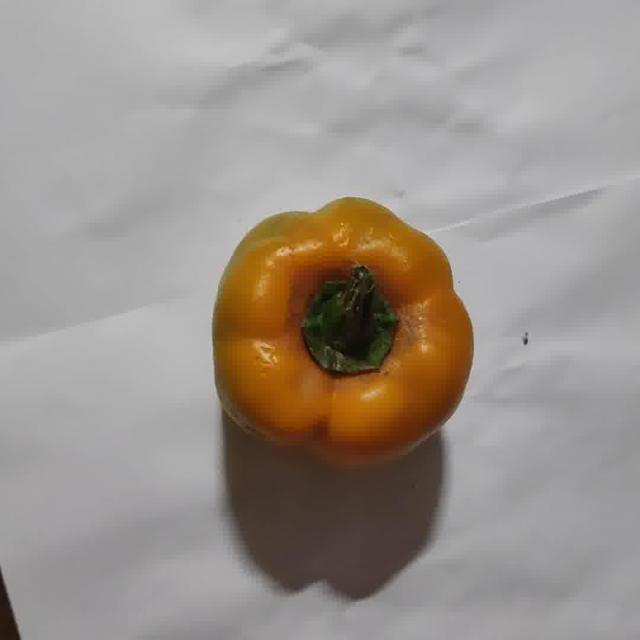Bell Pepper: (213, 198, 472, 455)
